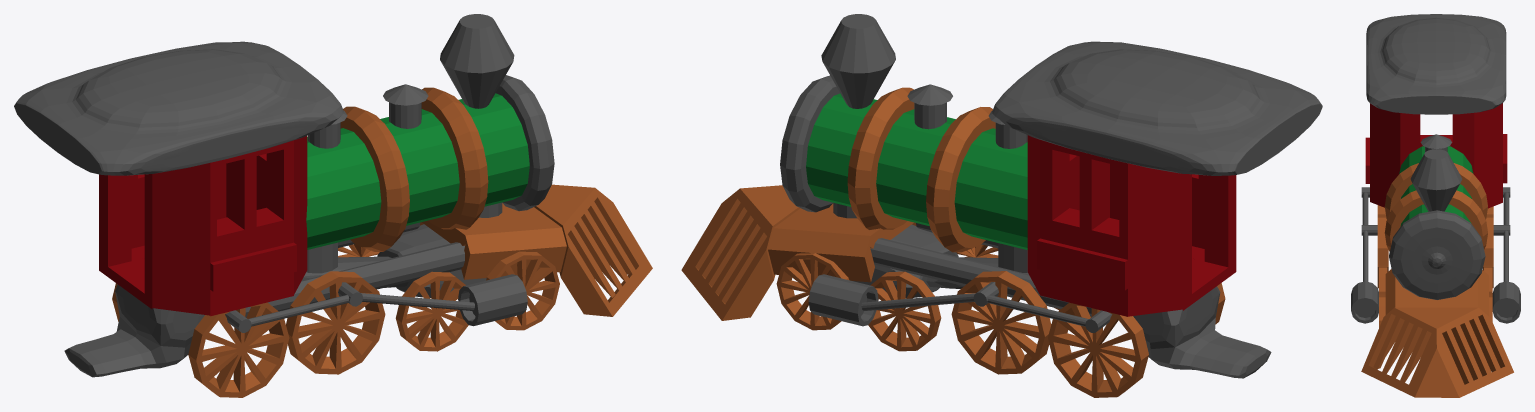
The model's file is locomotive.fbx.
The picture shows the model from 3 angles, left to right: view 1: azimuth 30°, elevation 25°; view 2: azimuth 150°, elevation 25°; view 3: azimuth 270°, elevation 25°; orthographic projection. The views are drawn at different scales.
Parts seen in each view (by area): view 1: Toit, cabineBase, tube tqt, Front, LienRouesEtWagon, bigwheel.001, bigwheel, liensExtérieursRoues.001, MainChemney, tour métallique 2, tour métallique, endOfTube (+6 smaller); view 2: Toit, cabineBase, tube tqt, Front, LienRouesEtWagon, bigwheel.002, bigwheel.003, liensExtérieursRoues, MainChemney, tour métallique 2, tour métallique, endOfTube (+6 smaller); view 3: Toit, Front, cabineBase, endOfTube, MainChemney, liensExtérieursRoues, liensExtérieursRoues.001, tour métallique, tour métallique 2, tube tqt, bigwheel.001, bigwheel.002 (+3 smaller).
Part boxes in pixels (box(x1,y1,x2,y2)): Toit: box(14, 41, 343, 175); cabineBase: box(99, 136, 307, 316); tube tqt: box(306, 93, 529, 249); Front: box(420, 184, 652, 316); LienRouesEtWagon: box(64, 224, 486, 377); bigwheel.001: box(286, 271, 385, 374); bigwheel: box(188, 302, 289, 397); liensExtérieursRoues.001: box(225, 274, 527, 332); MainChemney: box(440, 14, 514, 108); tour métallique 2: box(340, 106, 409, 251); tour métallique: box(421, 87, 488, 229); endOfTube: box(496, 75, 554, 211); Toit: box(992, 41, 1322, 175); cabineBase: box(1027, 135, 1236, 316); tube tqt: box(806, 93, 1027, 249); Front: box(681, 185, 916, 320); LienRouesEtWagon: box(853, 224, 1271, 378); bigwheel.002: box(951, 271, 1051, 374); bigwheel.003: box(1048, 302, 1148, 397); liensExtérieursRoues: box(808, 274, 1112, 332); MainChemney: box(821, 14, 895, 108); tour métallique 2: box(926, 107, 995, 252); tour métallique: box(847, 87, 914, 229); endOfTube: box(780, 75, 839, 212); Toit: box(1366, 14, 1506, 114); Front: box(1361, 269, 1513, 397); cabineBase: box(1365, 103, 1507, 208); endOfTube: box(1389, 210, 1485, 299); MainChemney: box(1410, 149, 1462, 211); liensExtérieursRoues: box(1492, 187, 1520, 323); liensExtérieursRoues.001: box(1351, 187, 1378, 323); tour métallique: box(1384, 190, 1487, 251); tour métallique 2: box(1384, 163, 1487, 219); tube tqt: box(1399, 146, 1473, 226); bigwheel.001: box(1377, 214, 1388, 288); bigwheel.002: box(1483, 214, 1493, 288).
Size of the model in its own units: 4860 by 2383 by 1790.
